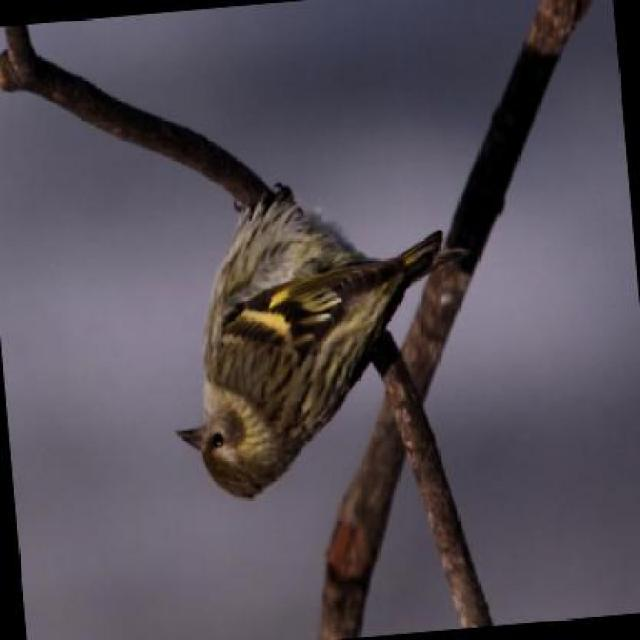Bird: (171, 179, 439, 521)
